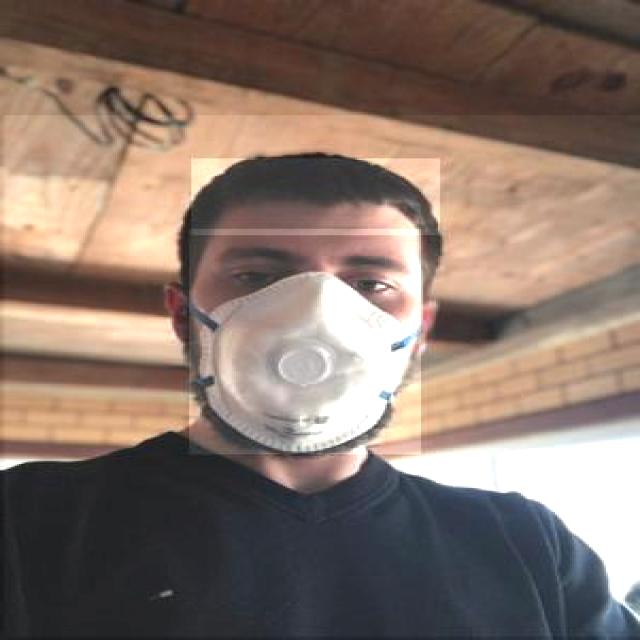face_mask: (189, 229, 421, 454)
head_nohelmet: (191, 158, 440, 236)
person: (2, 116, 640, 638)
